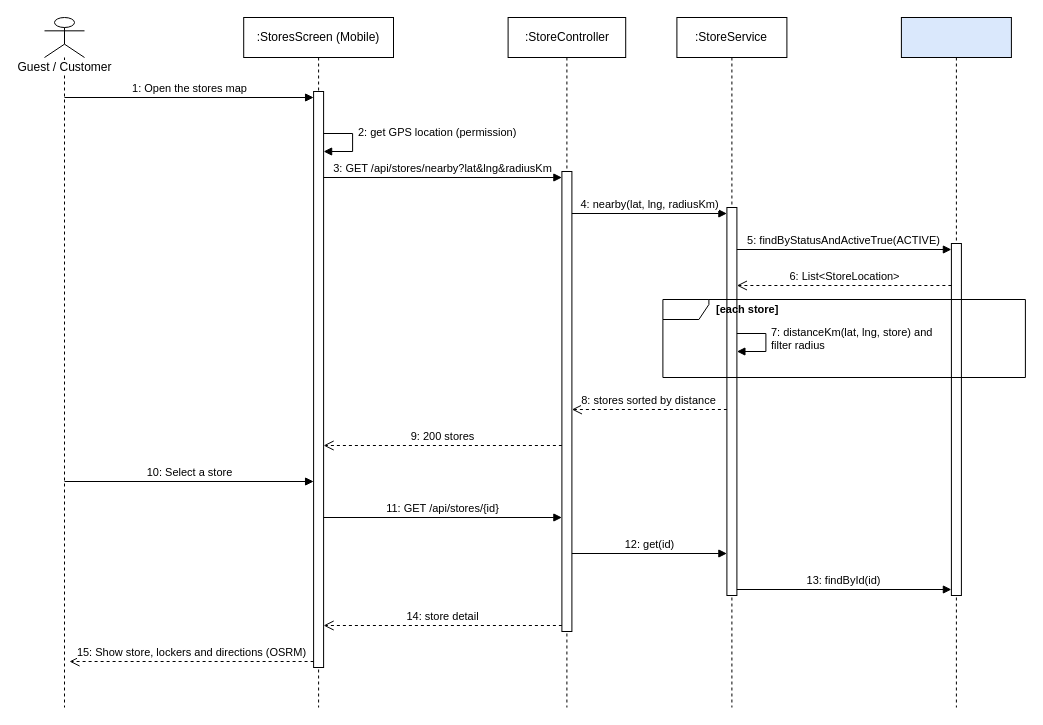
The diagram is 1043 pixels wide and 725 high, and some of its shapes have lost their labels. Here are the shapes that lost their labels. From the top down, the box of each, then its label:
(662, 298, 1025, 378): loop
(900, 16, 1011, 708): :store_db
